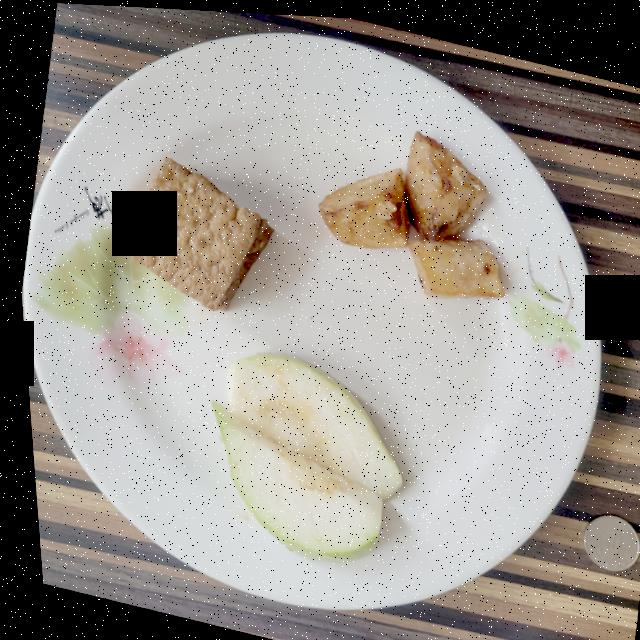coin: (574, 509, 631, 565)
egg tofu: (111, 155, 269, 309)
fried potato: (315, 127, 500, 294)
guava -sliced-: (205, 350, 394, 560)
